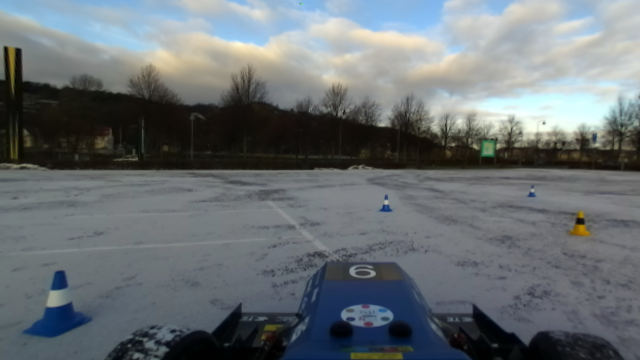blue: (20, 266, 94, 339), (376, 192, 393, 212), (526, 182, 537, 197)
yellow: (568, 210, 589, 236)
